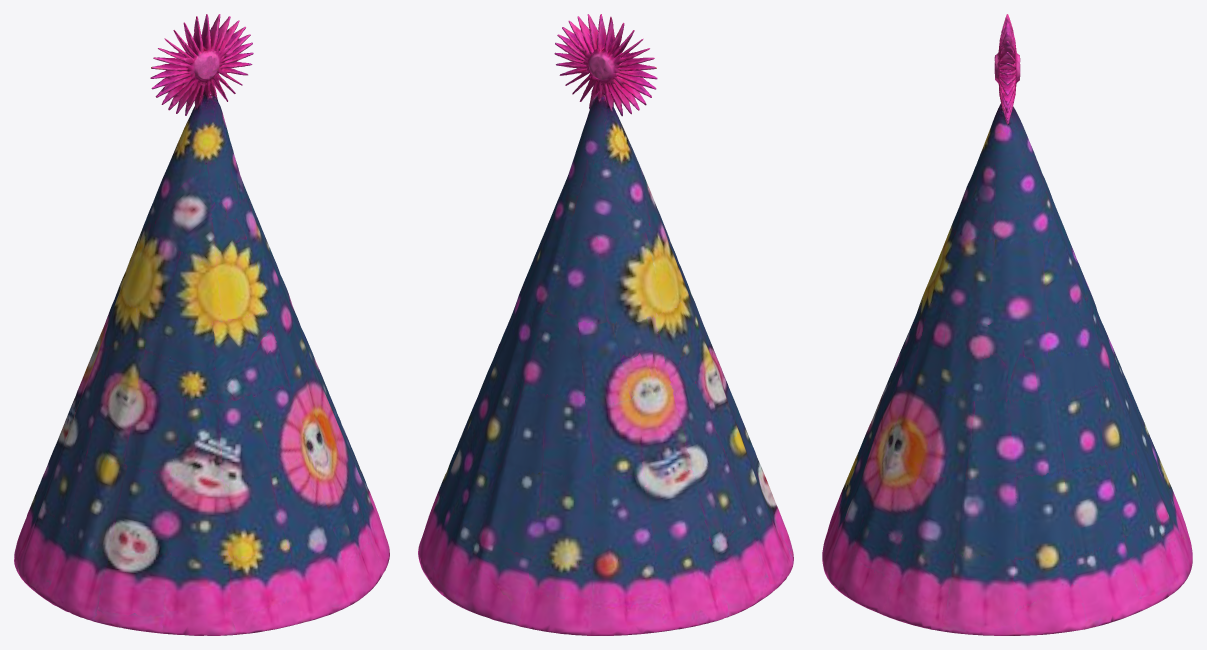
3 views of the same model, side by side, from view 1: azimuth 30°, elevation 25°; view 2: azimuth 150°, elevation 25°; view 3: azimuth 270°, elevation 25° (orthographic).
Size of the model in its own units: 1.18 by 1.9 by 1.18.
1 material, 1 textured.
